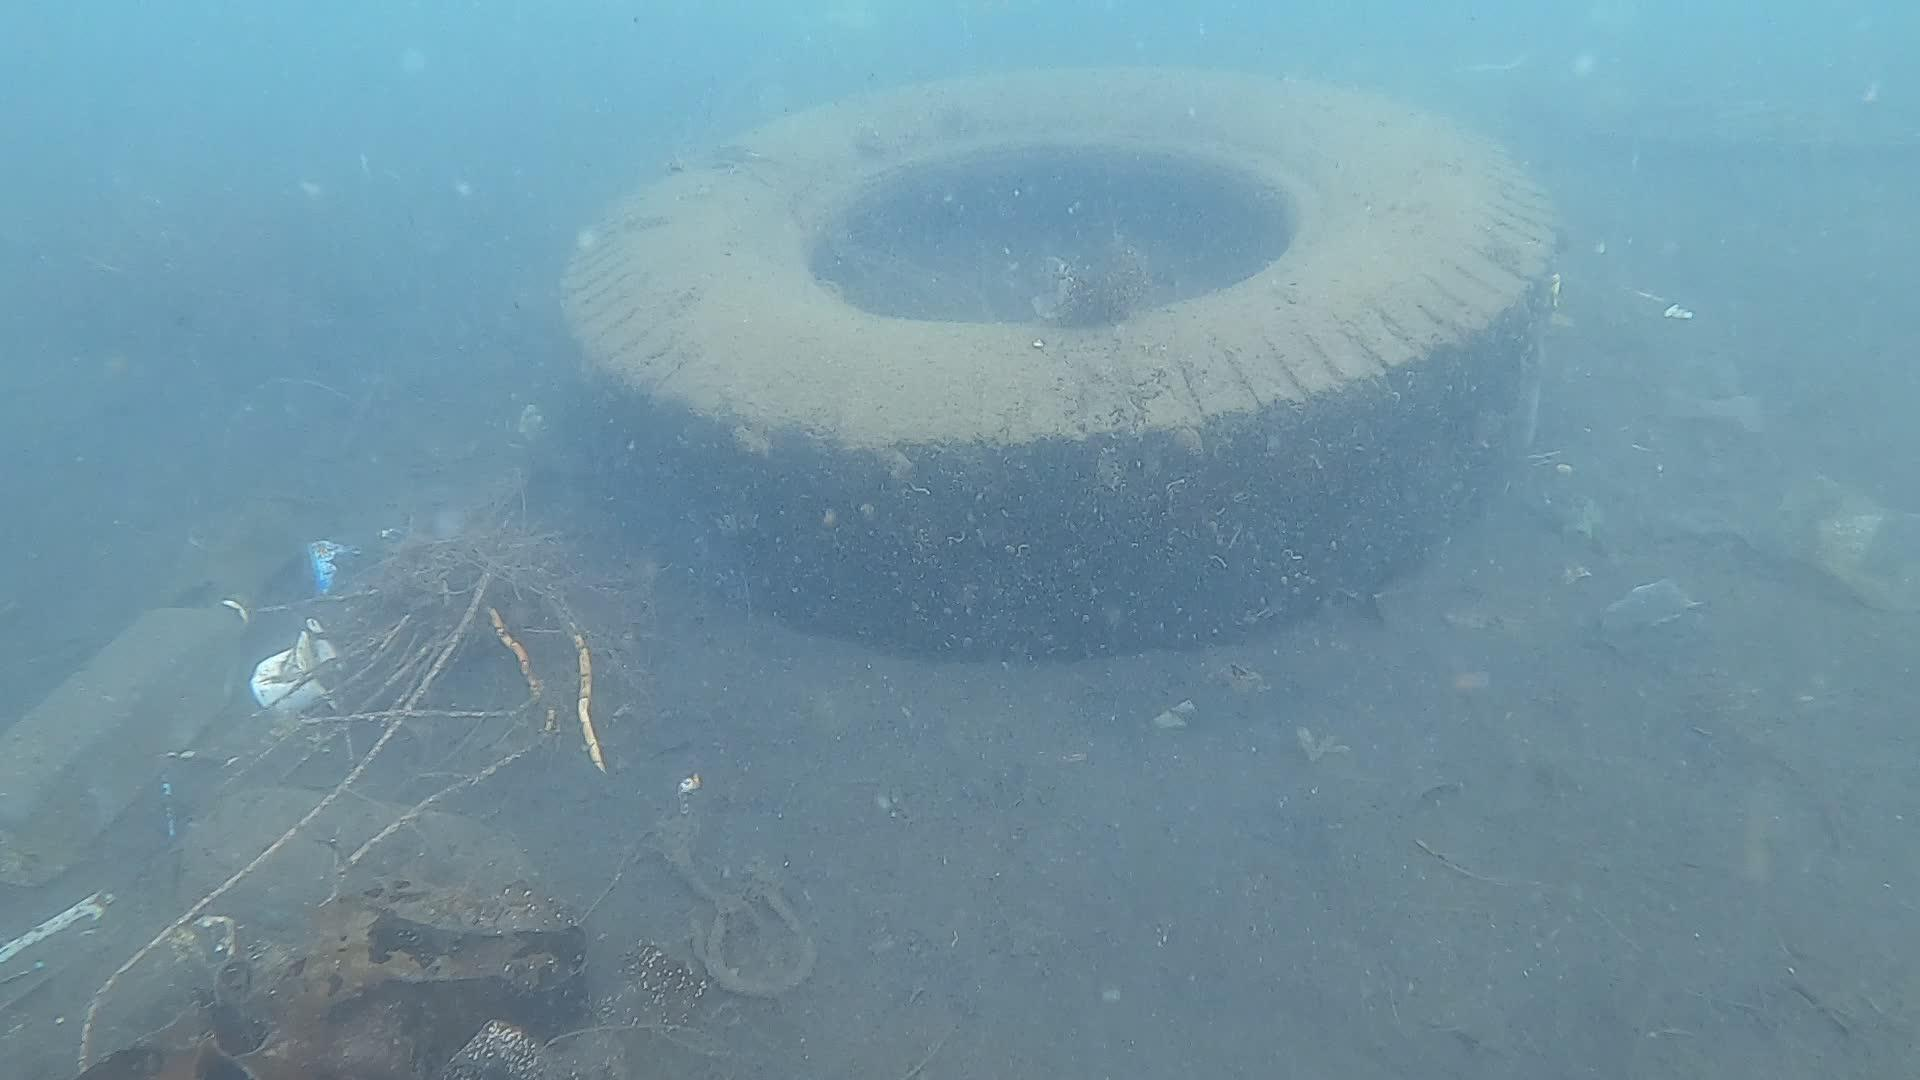tire: (560, 61, 1560, 665)
